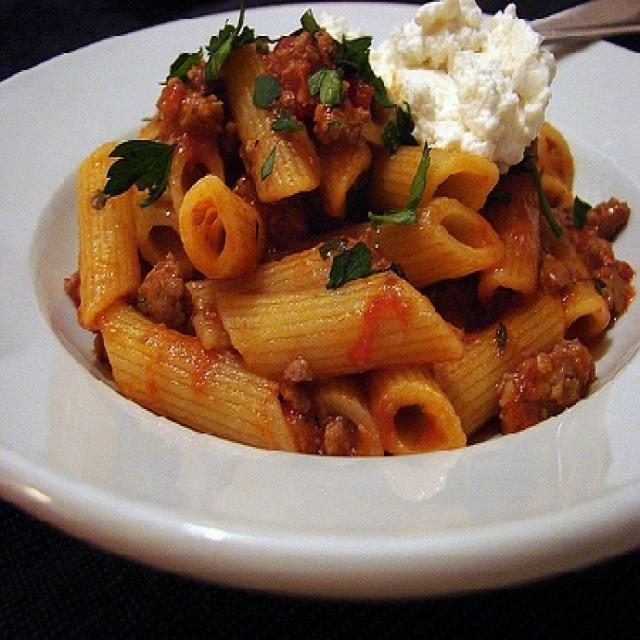Pasta al ragu: (67, 13, 626, 460)
